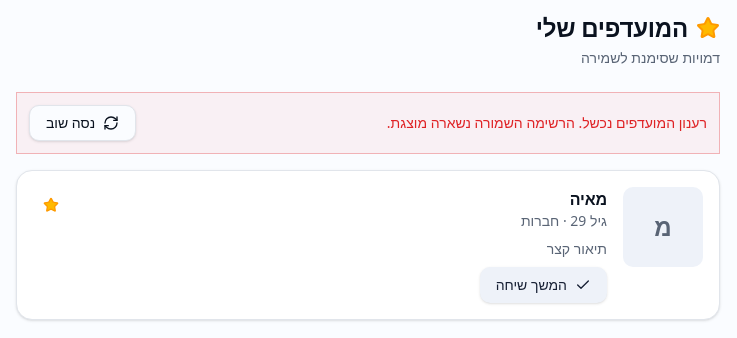
client favorites workflow › keeps cached favorites through refresh failure and retries only the read
The width and height of the screenshot is (737, 338).
expect the heading "מאיה" is shown: met, box [570,188,607,210]
expect the message shows "רענון המועדפים נכשל": met, box [387,113,707,132]
Click the button "נסה שוב".
click(83, 123)  # box [29,105,136,141]
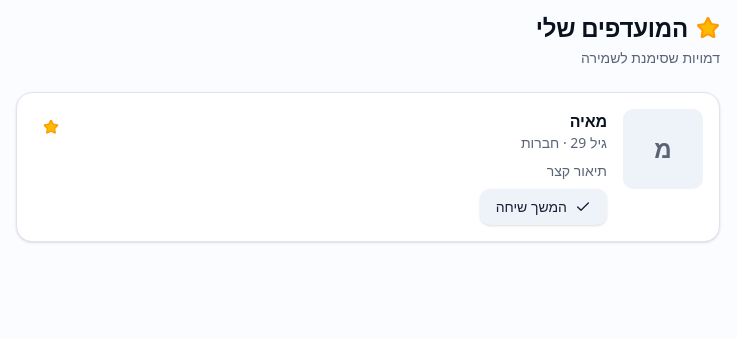
expect the message "רענון המועדפים נכשל. הרשימה השמורה נשארה מוצגת. נסה שוב" is gone: met
